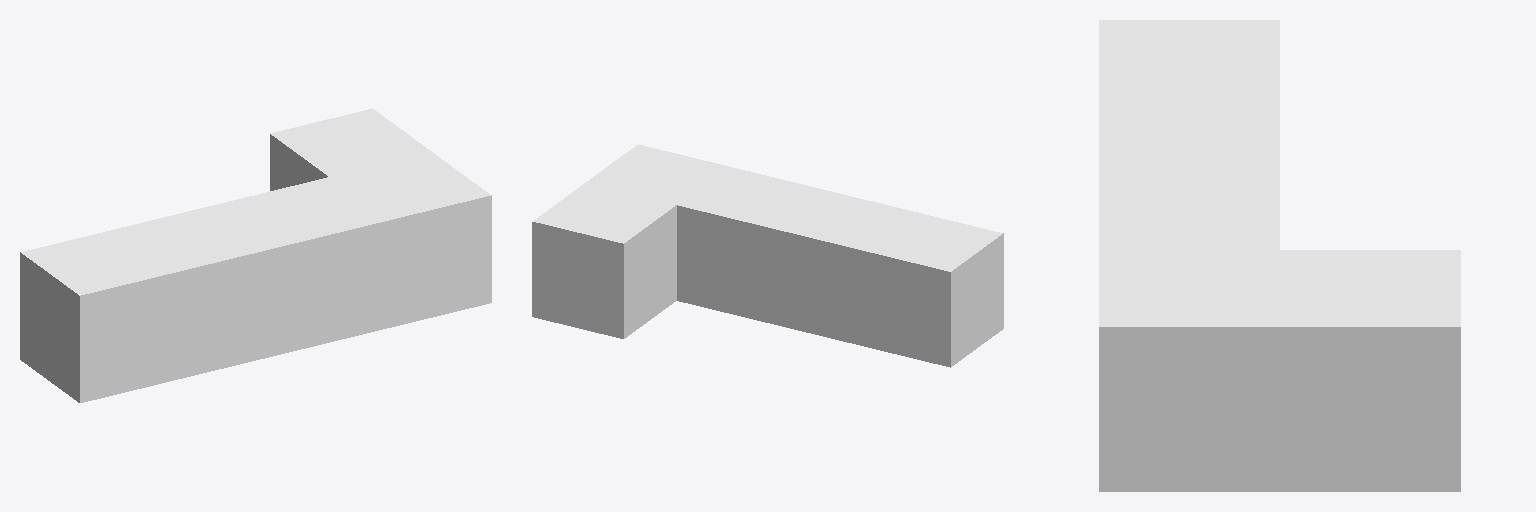
robot.urdf — J.urdf:
<?xml version="0.0" ?>
<robot name="J.urdf">
  <link name="baseLink">
    <contact>
      <lateral_friction value="0.8"/>
      <rolling_friction value="0.001"/>
      <contact_cfm value="0.0"/>
      <contact_erp value="1.0"/>
    </contact>
    <inertial>
    <origin rpy="0 0 0" xyz="0.0 0.0 0.0"/>
       <mass value=".1"/>
       <inertia ixx="1e-3" ixy="0" ixz="0" iyy="1e-3" iyz="0" izz="1e-3"/>
    </inertial>
    <visual>
      <origin xyz="0 0 0" rpy="0 0 0"/>
      <geometry>
        <mesh filename="J.obj" scale="1 1 1"/>
      </geometry>
      <material name="white">
        <color rgba="1. 1. 1. 1."/>
      </material>
    </visual>
    <collision>
      <origin xyz="0 0 0" rpy="0 0 0"/>
      <geometry>
        <mesh filename="J.obj" scale="1 1 1"/>
      </geometry>
    </collision>
  </link>
</robot>

--- What the picture shows (computed from the rendered views, not written in the file) ---
Views: 3 orthographic renders of the robot side by side, from view 1: azimuth 30°, elevation 25°; view 2: azimuth 150°, elevation 25°; view 3: azimuth 270°, elevation 25°.
Robot: J.urdf — 1 links, 0 joints (none); root link baseLink; default pose: all joints at 0.
Visible links, largest first — view 1: baseLink; view 2: baseLink; view 3: baseLink.
Link boxes in pixels (x1,y1,x2,y2): baseLink: (20, 108, 491, 402); baseLink: (532, 144, 1003, 367); baseLink: (1099, 20, 1460, 491).
Size in the robot's own frame: 0.2 by 0.1 by 0.05 metres.
1 mesh visuals loaded from 1 distinct referenced files (1 OBJ).